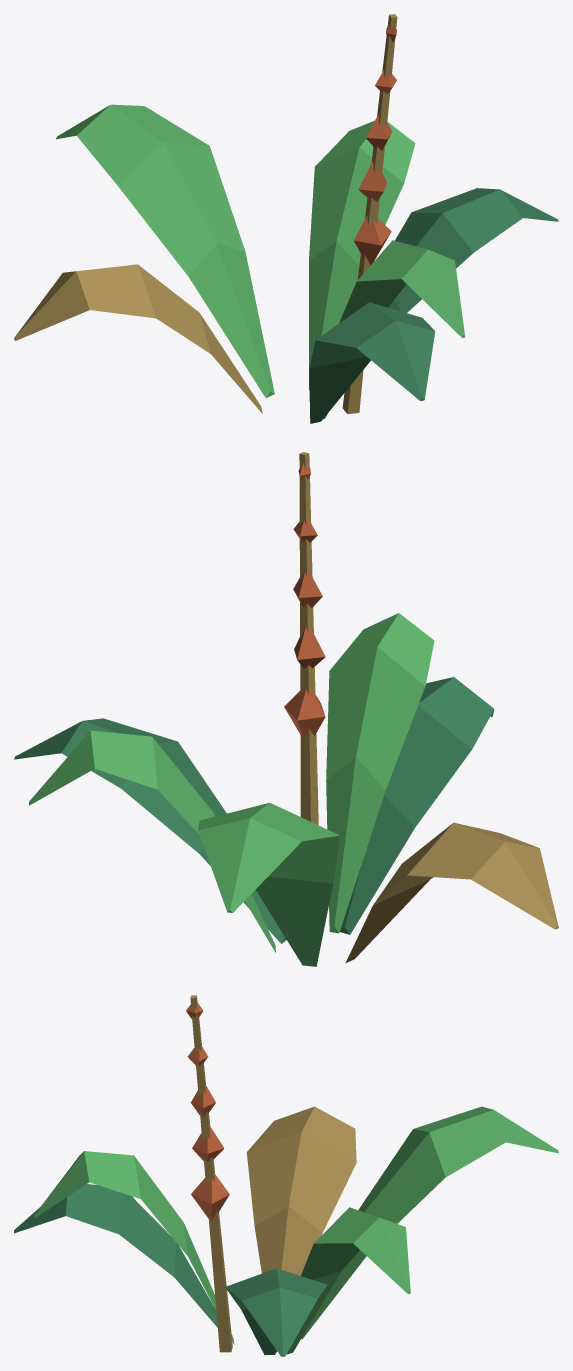
File: plant_dock_a.glb
3 renders of one model, top to bottom at view 1: azimuth 30°, elevation 25°; view 2: azimuth 150°, elevation 25°; view 3: azimuth 270°, elevation 25°, orthographic. The views are drawn at different scales.
Parts seen in each view (by area): view 1: PlantDockA; view 2: PlantDockA; view 3: PlantDockA.
Part boxes in pixels (x1,y1,x2,y2): PlantDockA: (14, 14, 558, 423); PlantDockA: (14, 452, 558, 966); PlantDockA: (14, 995, 558, 1356).
Bounding box in the file's own units: 1.39 × 1.05 × 1.4.
